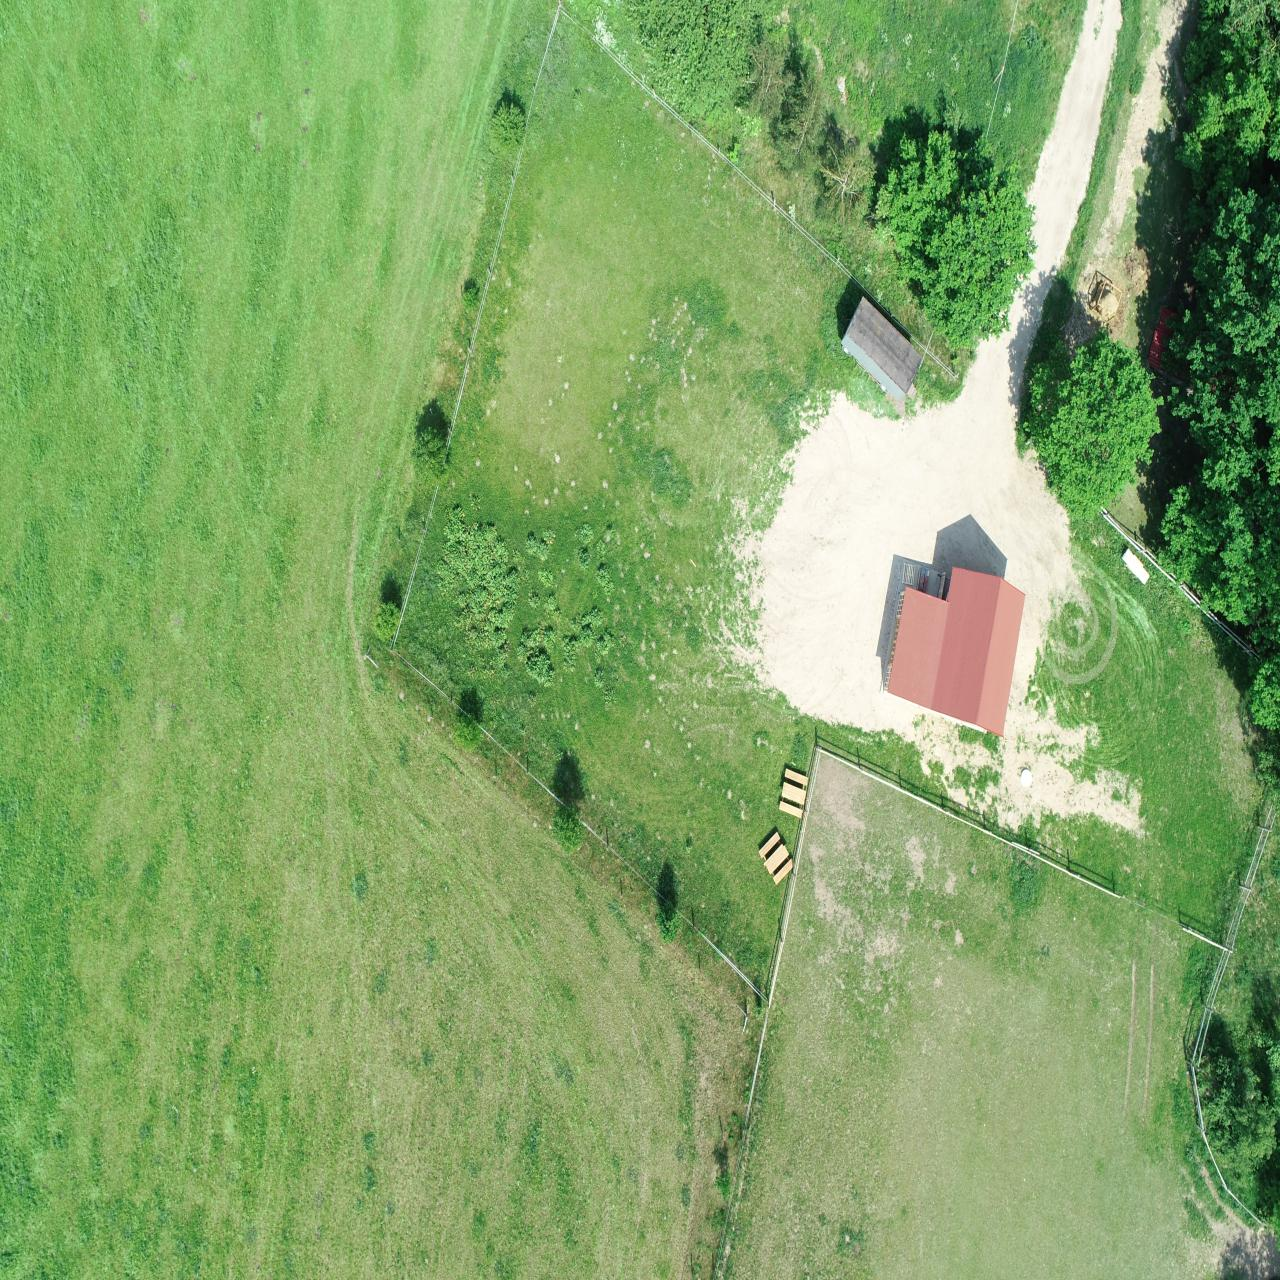cow: (840, 527, 871, 571), (873, 523, 915, 552), (751, 510, 787, 539)
